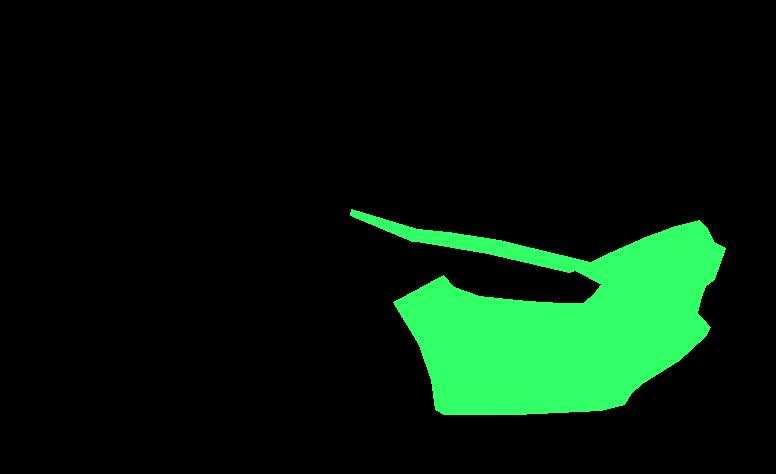Broken part: (393, 220, 725, 414), (350, 209, 594, 272)
